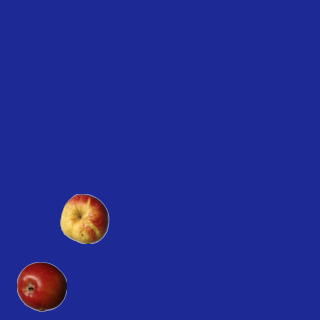Apple Braeburn: (16, 261, 66, 311)
Apple Red Yellow 1: (59, 193, 109, 243)
